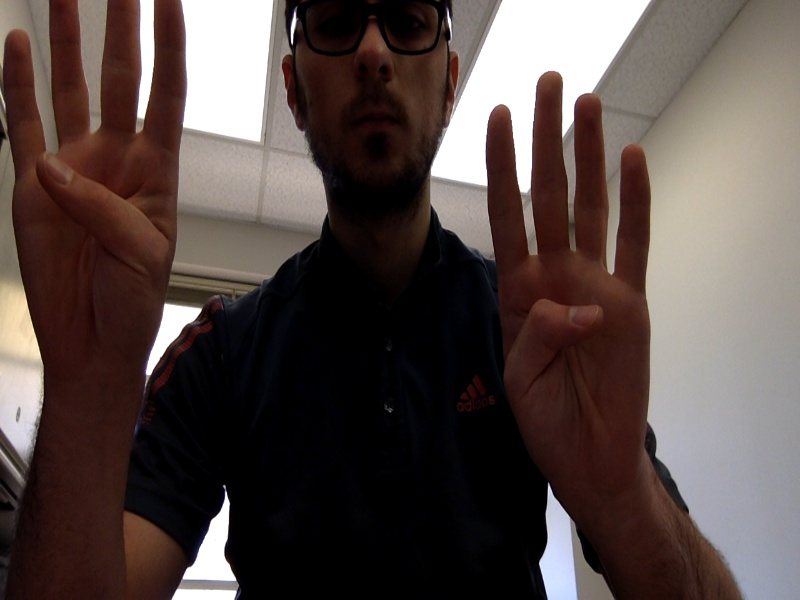4-hand: (486, 71, 651, 477), (5, 1, 186, 353)
